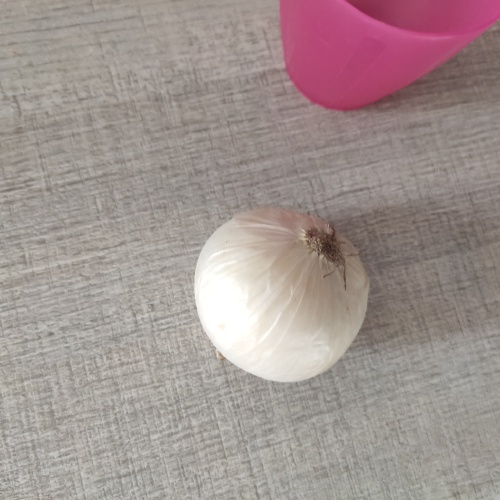cipolla: (189, 203, 381, 387)
